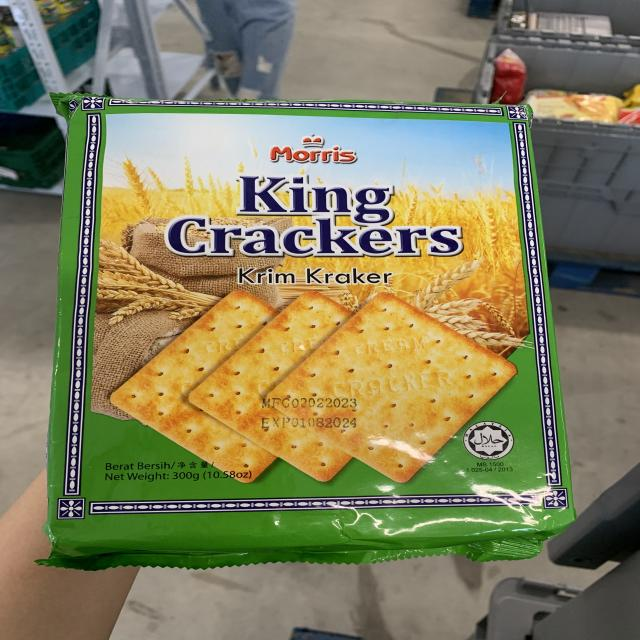object_name: (65, 98, 553, 549)
